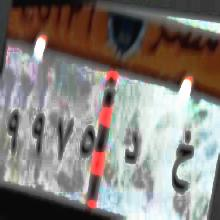5: (80, 111, 100, 167)
7: (52, 114, 74, 164)
9: (4, 106, 23, 164), (30, 108, 46, 159)
daal: (120, 125, 143, 173)
khaa: (166, 123, 196, 214)
